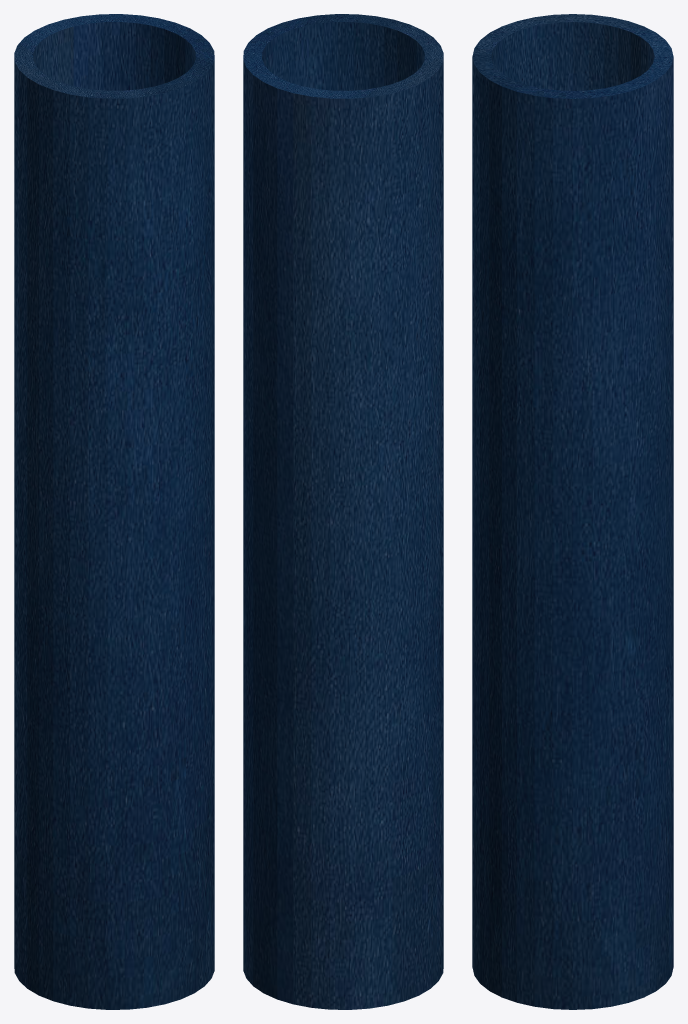
File: tubefix2.fbx
3 views of the same model, side by side, from view 1: azimuth 30°, elevation 25°; view 2: azimuth 150°, elevation 25°; view 3: azimuth 270°, elevation 25° (orthographic).
Parts seen in each view (by area): view 1: Cylinder.001; view 2: Cylinder.001; view 3: Cylinder.001.
Part boxes in pixels (bbox=[...]): Cylinder.001: bbox=[14, 14, 214, 1009]; Cylinder.001: bbox=[243, 14, 443, 1009]; Cylinder.001: bbox=[472, 14, 673, 1009].
Size of the model in its own units: 8 by 40 by 8.
Materials: 1 (1 with a texture image).
